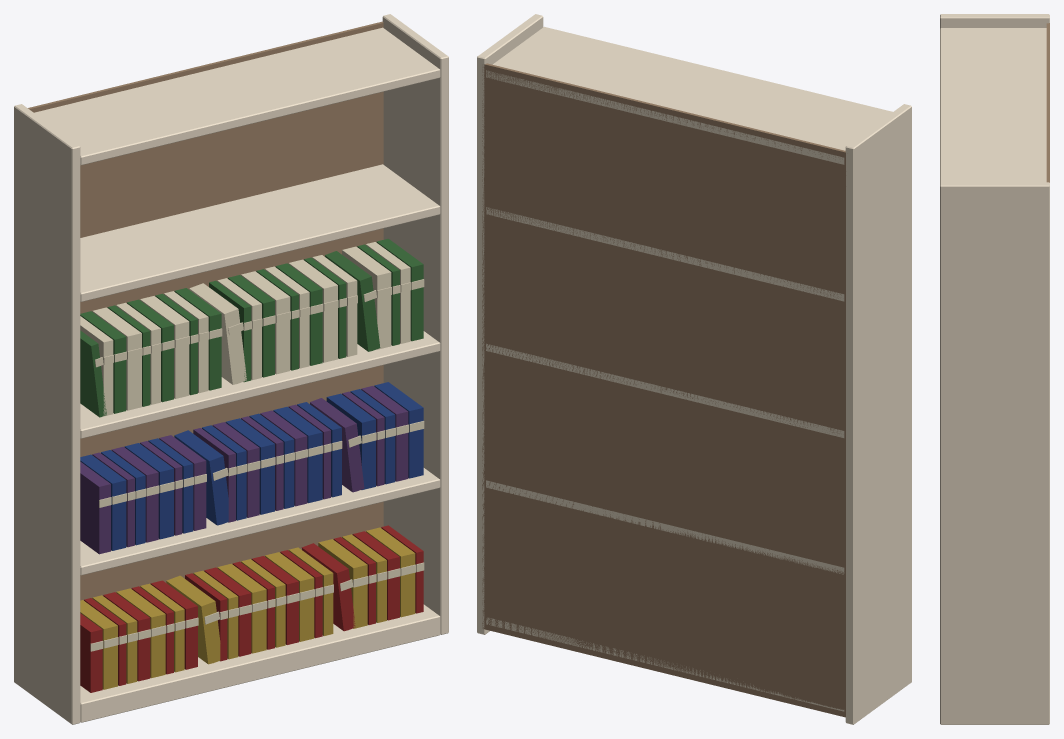
The model's file is estante_livros.obj.
3 views of the same model, side by side, from view 1: azimuth 30°, elevation 25°; view 2: azimuth 150°, elevation 25°; view 3: azimuth 270°, elevation 25° (orthographic). The views are drawn at different scales.
Visible parts, largest first — view 1: estante_livros; view 2: estante_livros; view 3: estante_livros.
Boxes of the visible parts, x1,y1,x2,y2 form: estante_livros: [14, 14, 448, 724]; estante_livros: [477, 14, 911, 724]; estante_livros: [940, 14, 1049, 724].
Bounding box in the file's own units: 1.3 × 1.9 × 0.35.
